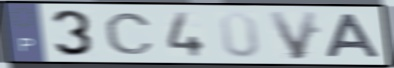0: (217, 9, 263, 60)
3: (49, 8, 97, 59)
4: (165, 10, 208, 59)
A: (324, 12, 383, 60)
C: (102, 11, 157, 57)
V: (265, 9, 321, 62)
